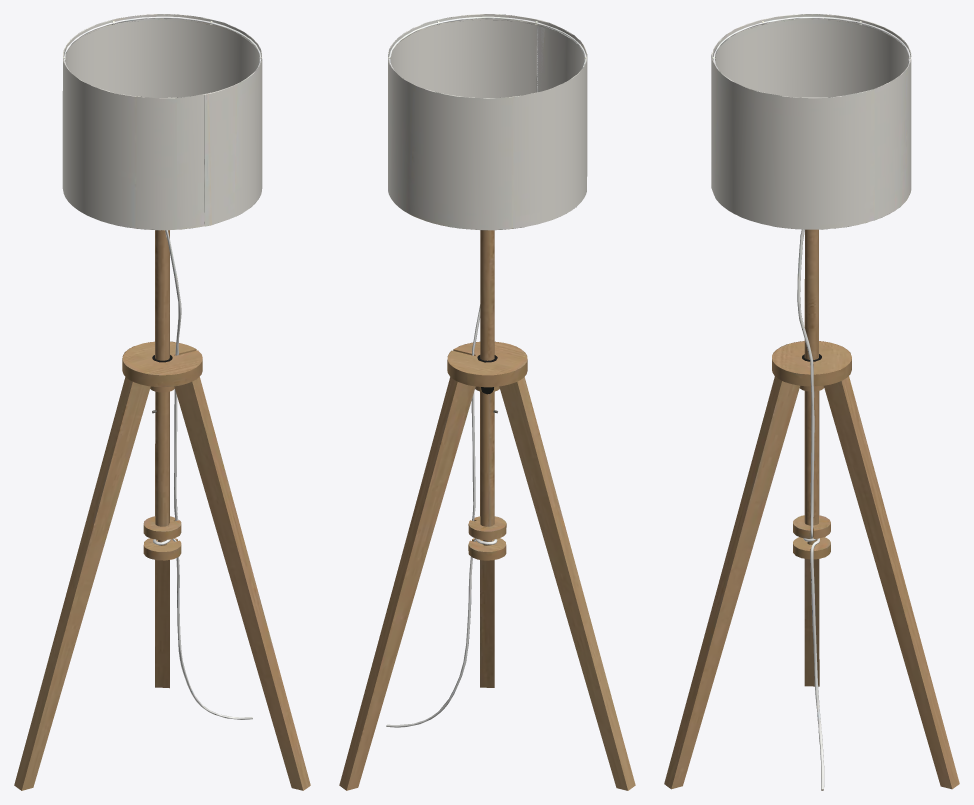
File: LR-FLOORLAMP-A.glb
3 views of the same model, side by side, from view 1: azimuth 30°, elevation 25°; view 2: azimuth 150°, elevation 25°; view 3: azimuth 270°, elevation 25° (orthographic).
Visible parts, largest first — view 1: 30405042_Reduction_Textures_Parameterizer_591px; view 2: 30405042_Reduction_Textures_Parameterizer_591px; view 3: 30405042_Reduction_Textures_Parameterizer_591px.
Part boxes in pixels (box(x1,y1,x2,y2)): 30405042_Reduction_Textures_Parameterizer_591px: box(14, 14, 310, 790); 30405042_Reduction_Textures_Parameterizer_591px: box(339, 14, 635, 790); 30405042_Reduction_Textures_Parameterizer_591px: box(664, 14, 959, 790).
Size of the model in its own units: 0.5167 by 1.44 by 0.5524.
1 material, 1 textured.
